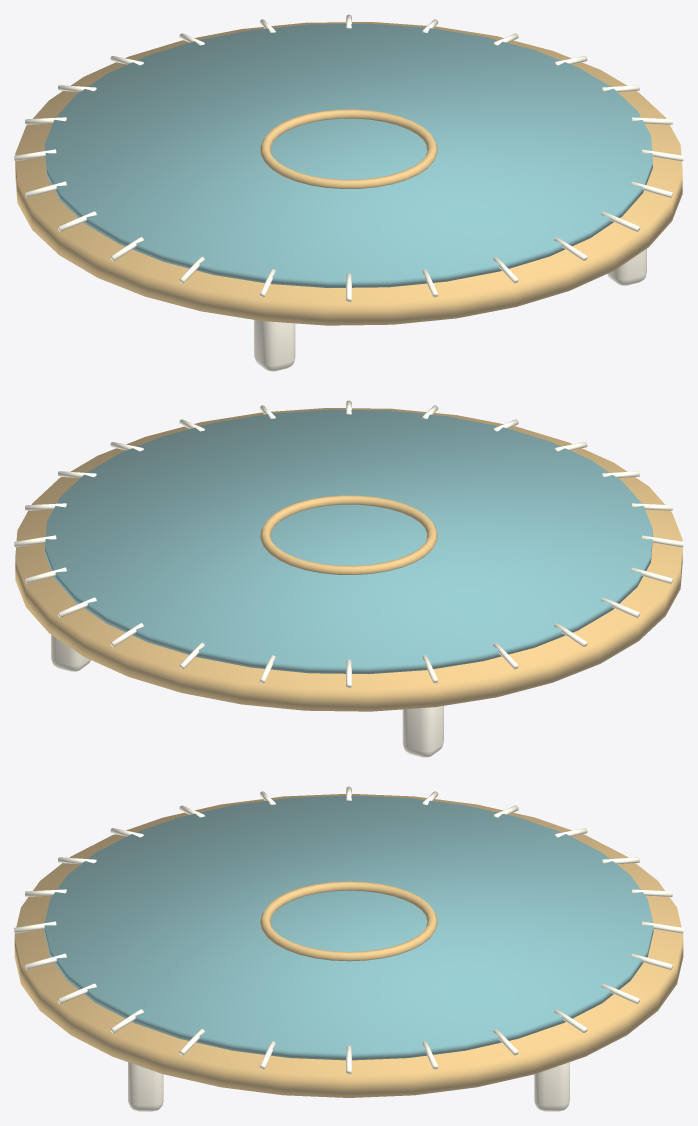
File: sky_launch_pad.glb
3 views of the same model, one above another, from view 1: azimuth 30°, elevation 25°; view 2: azimuth 150°, elevation 25°; view 3: azimuth 270°, elevation 25° (orthographic).
Visible parts, largest first — view 1: sky_launch_pad_rigmesh_1, sky_launch_pad_rigmesh_0; view 2: sky_launch_pad_rigmesh_1, sky_launch_pad_rigmesh_0; view 3: sky_launch_pad_rigmesh_1, sky_launch_pad_rigmesh_0.
Boxes of the visible parts, bbox=[...] form: sky_launch_pad_rigmesh_1: bbox=[45, 23, 652, 288]; sky_launch_pad_rigmesh_0: bbox=[14, 14, 683, 371]; sky_launch_pad_rigmesh_1: bbox=[45, 409, 652, 674]; sky_launch_pad_rigmesh_0: bbox=[14, 400, 683, 757]; sky_launch_pad_rigmesh_1: bbox=[44, 795, 653, 1060]; sky_launch_pad_rigmesh_0: bbox=[14, 786, 683, 1111].
Bounding box in the file's own units: 5.61 × 0.959 × 5.61.
